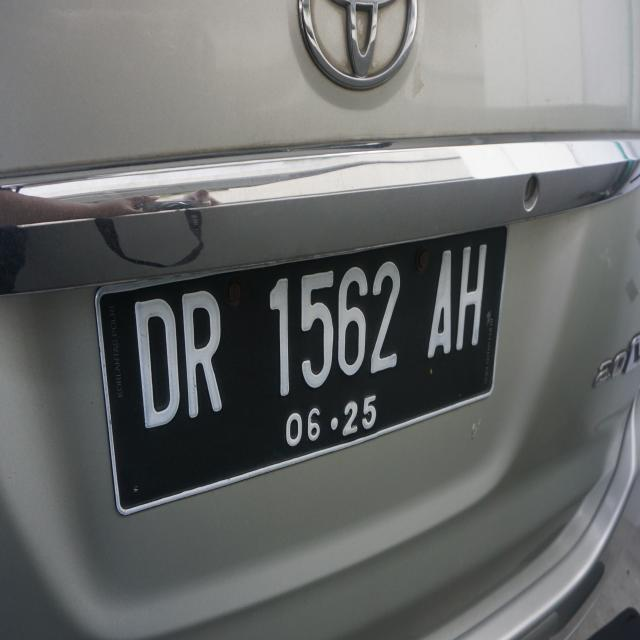1: (261, 273, 297, 402)
2: (370, 259, 406, 384)
5: (291, 264, 339, 399)
6: (336, 267, 371, 379)
A: (422, 242, 454, 371)
D: (125, 289, 183, 433)
H: (454, 242, 485, 354)
R: (177, 282, 230, 418)
